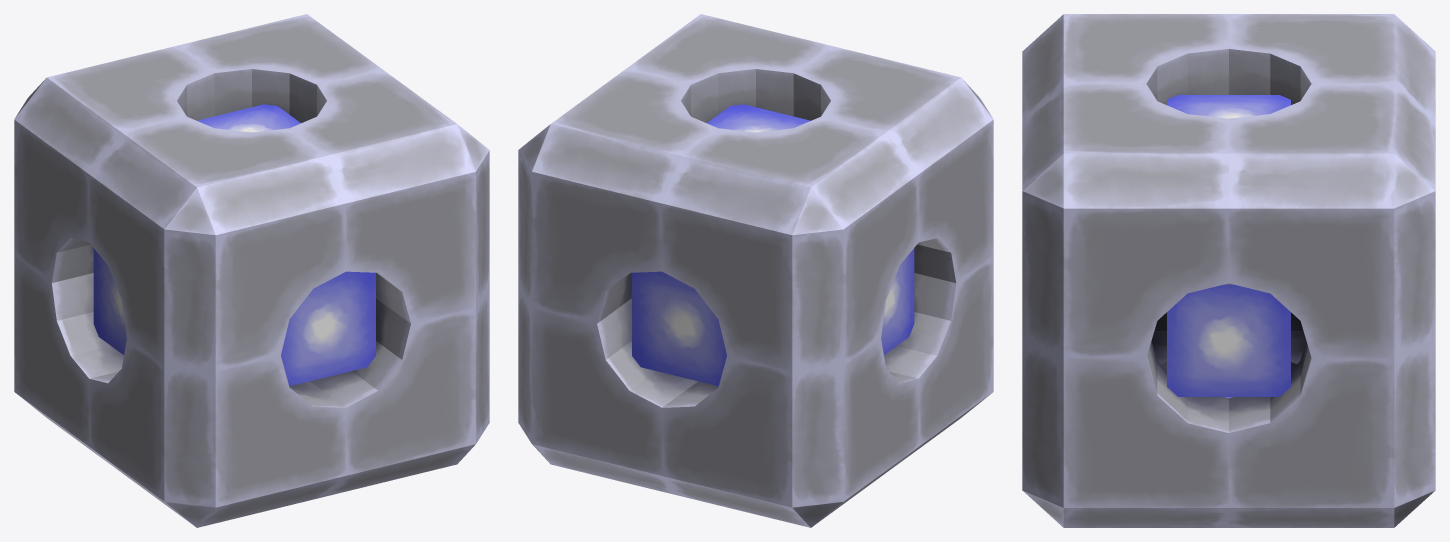
File: ExpandingWall.fbx
The picture shows the model from 3 angles, left to right: view 1: azimuth 30°, elevation 25°; view 2: azimuth 150°, elevation 25°; view 3: azimuth 270°, elevation 25°; orthographic projection. The views are drawn at different scales.
Parts seen in each view (by area): view 1: polySurface64; view 2: polySurface64; view 3: polySurface64.
Boxes of the visible parts, box(x1,y1,x2,y2) form: polySurface64: box(14, 14, 489, 527); polySurface64: box(518, 14, 993, 527); polySurface64: box(1022, 14, 1435, 527).
Bounding box in the file's own units: 60.08 × 60.08 × 60.08.
